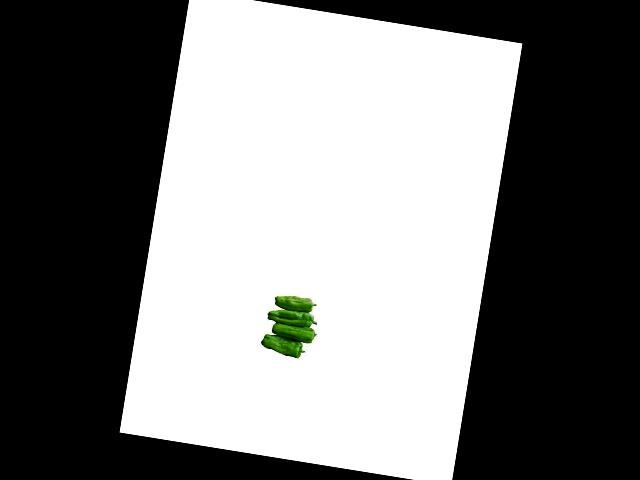bell_pepper: (256, 332, 309, 359)
